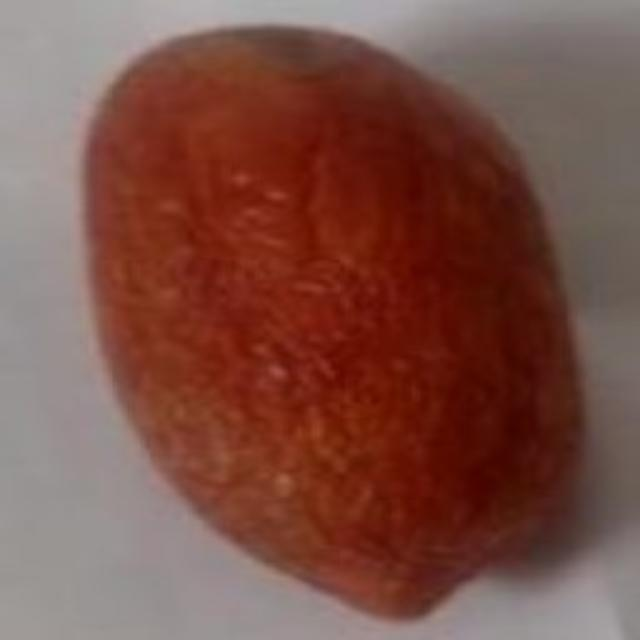defect: (78, 23, 586, 623)
